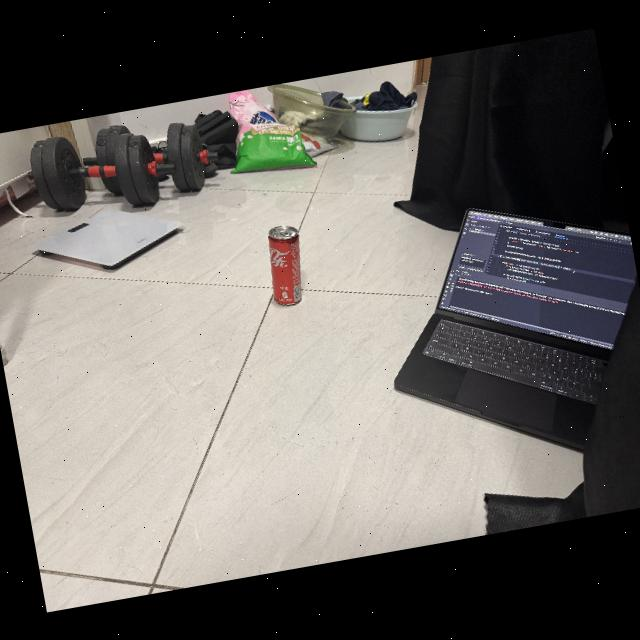Cola: (252, 215, 318, 318)
